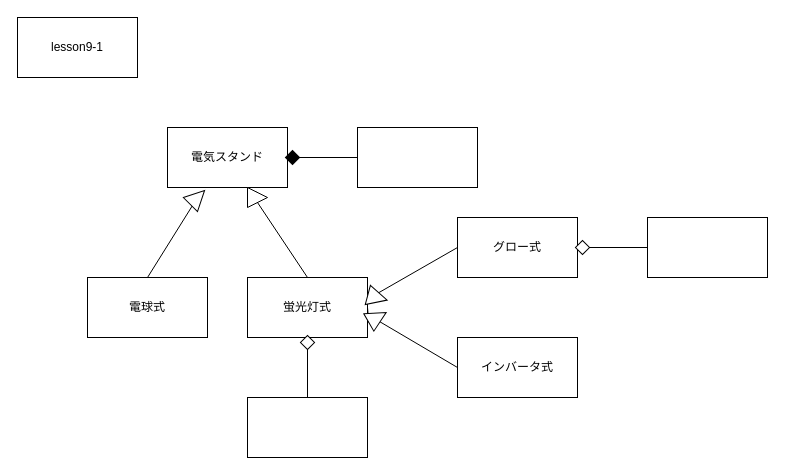
Image size: 785x475. Some labels were removed from this diagram. The centre of each missing label's shape, as x and y in pixels:
"グロー球" belongs at (x=707, y=247).
"スイッチ" belongs at (x=417, y=157).
"蛍光灯" belongs at (x=307, y=427).
